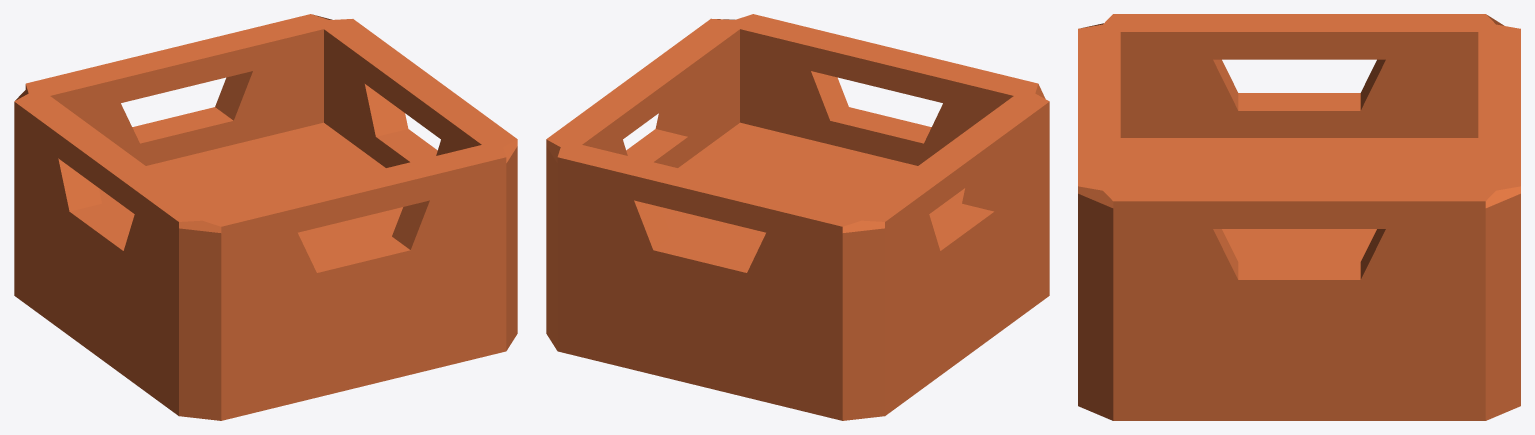
The model's file is Only rack.fbx.
The picture shows the model from 3 angles, left to right: view 1: azimuth 30°, elevation 25°; view 2: azimuth 150°, elevation 25°; view 3: azimuth 270°, elevation 25°; orthographic projection. The views are drawn at different scales.
Parts seen in each view (by area): view 1: subrays logo copy; view 2: subrays logo copy; view 3: subrays logo copy.
Boxes of the visible parts, x1,y1,x2,y2 form: subrays logo copy: (14, 14, 517, 420); subrays logo copy: (546, 14, 1049, 420); subrays logo copy: (1078, 14, 1520, 420).
Bounding box in the file's own units: 85.98 × 47.08 × 85.98.
